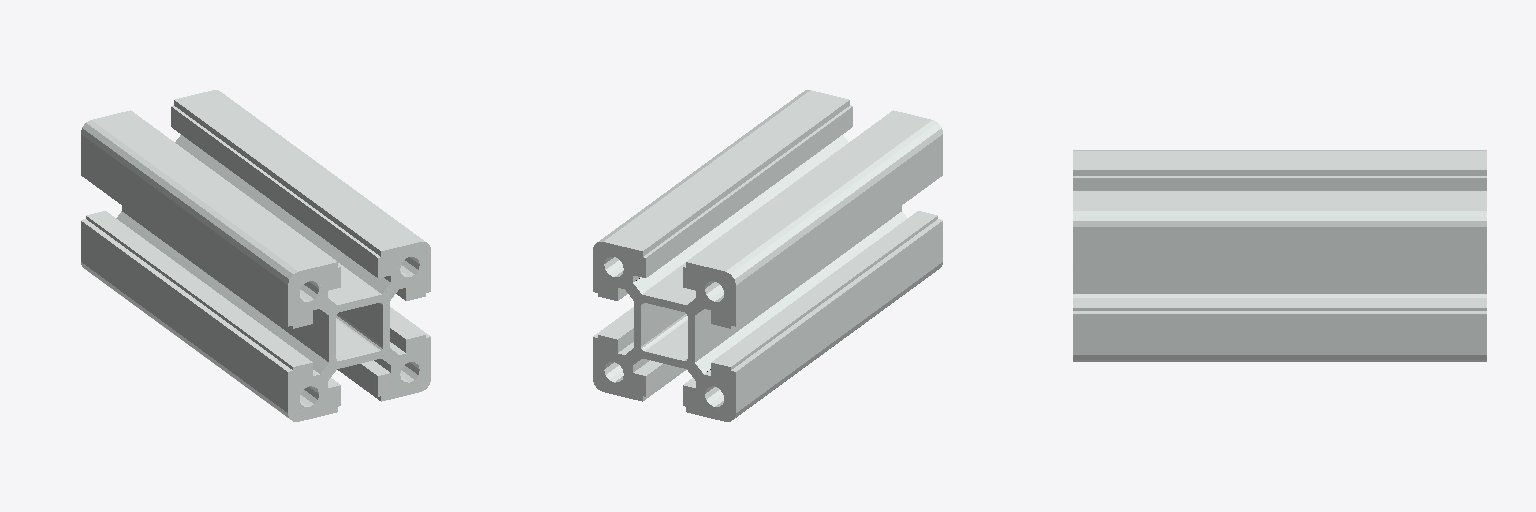
3 views of the same model, side by side, from view 1: azimuth 30°, elevation 25°; view 2: azimuth 150°, elevation 25°; view 3: azimuth 270°, elevation 25° (orthographic).
Visible parts, largest first — view 1: S40_40_g_S40_40_g; view 2: S40_40_g_S40_40_g; view 3: S40_40_g_S40_40_g.
Part boxes in pixels (bbox=[...]): S40_40_g_S40_40_g: bbox=[81, 90, 430, 421]; S40_40_g_S40_40_g: bbox=[593, 90, 942, 421]; S40_40_g_S40_40_g: bbox=[1073, 150, 1486, 361].
Bounding box in the file's own units: 2.4 × 2.4 × 6.
1 materials, 1 textured.